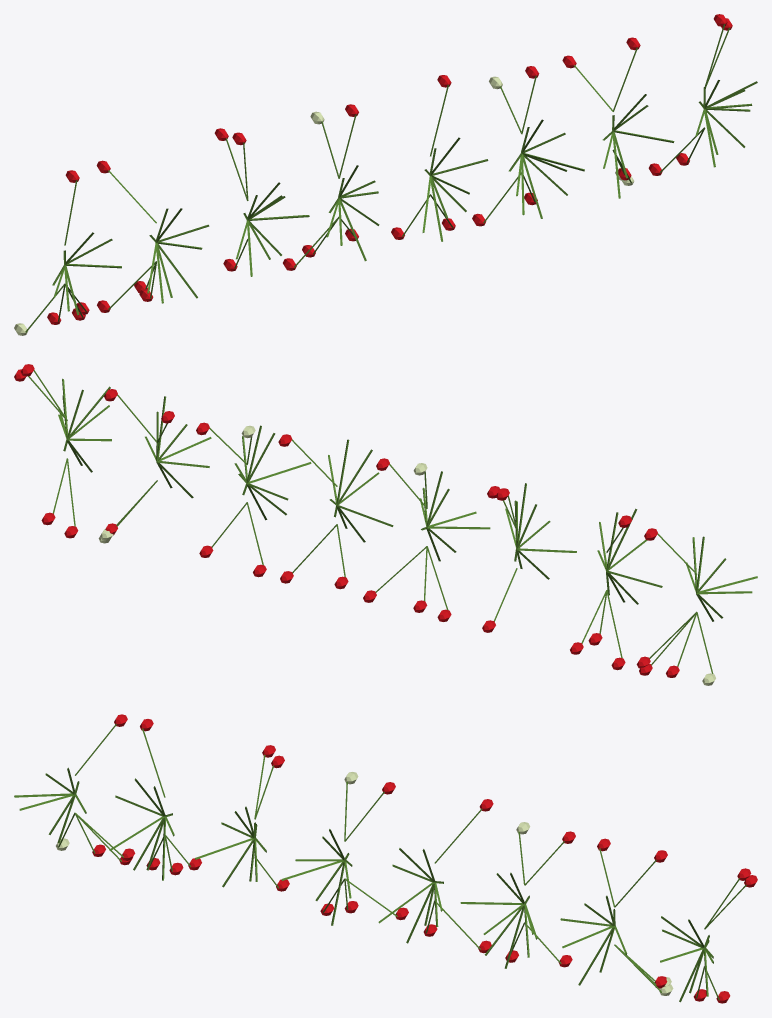
File: r2c4_rest.obj
3 views of the same model, one above another, from view 1: azimuth 30°, elevation 25°; view 2: azimuth 150°, elevation 25°; view 3: azimuth 330°, elevation 25° (orthographic).
Parts seen in each view (by area): view 1: r2c4_rest; view 2: r2c4_rest; view 3: r2c4_rest.
Part boxes in pixels (<box>): r2c4_rest: <box>14,14,757,335</box>; r2c4_rest: <box>14,364,757,685</box>; r2c4_rest: <box>14,714,757,1003</box>.
Size of the model in its own units: 1.96 by 0.4025 by 0.2573.
